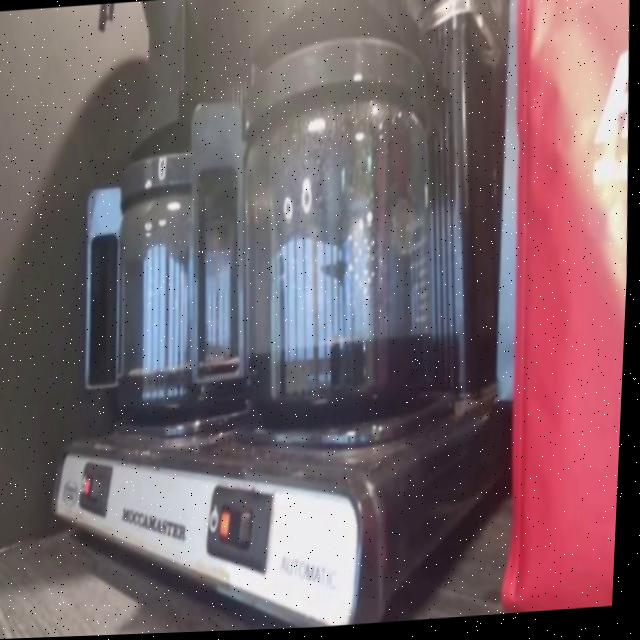coffee: (236, 121, 443, 418), (109, 200, 247, 427)
